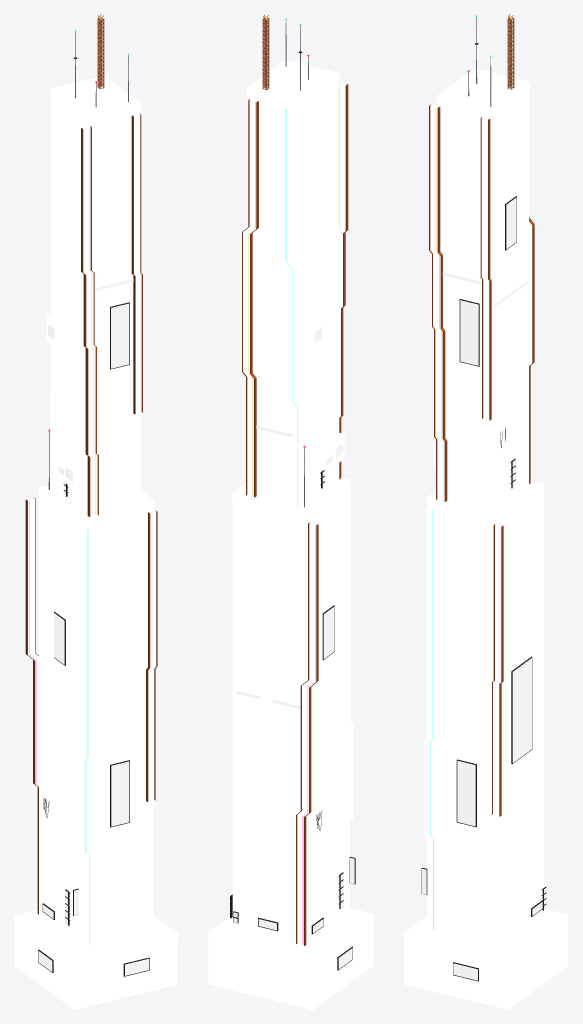
Rendered from k_block_c.glb.
3 views of the same model, side by side, from view 1: azimuth 30°, elevation 25°; view 2: azimuth 150°, elevation 25°; view 3: azimuth 330°, elevation 25° (orthographic).
Visible parts, largest first — view 1: kit_dark, kit_grey, kit_mid, steel_orange, screen_atlas, metal_dark, neon_cyan, neon_amber; view 2: kit_dark, kit_grey, kit_mid, steel_orange, kit_hex, screen_atlas, metal_dark, neon_amber, neon_cyan, neon_magenta; view 3: kit_dark, kit_grey, kit_mid, steel_orange, screen_atlas, metal_dark, neon_cyan, neon_amber.
Boxes of the visible parts, bbox=[...] form: kit_dark: bbox=[39, 96, 153, 948]; kit_grey: bbox=[14, 76, 178, 961]; kit_mid: bbox=[15, 86, 177, 1009]; steel_orange: bbox=[25, 14, 157, 914]; screen_atlas: bbox=[38, 279, 148, 975]; metal_dark: bbox=[38, 57, 149, 976]; neon_cyan: bbox=[85, 528, 89, 944]; neon_amber: bbox=[89, 16, 101, 514]; kit_dark: bbox=[232, 81, 349, 947]; kit_grey: bbox=[207, 60, 374, 961]; kit_mid: bbox=[208, 65, 373, 1009]; steel_orange: bbox=[242, 14, 348, 945]; kit_hex: bbox=[260, 634, 271, 814]; screen_atlas: bbox=[233, 327, 354, 969]; metal_dark: bbox=[230, 51, 355, 970]; neon_amber: bbox=[248, 16, 339, 496]; neon_cyan: bbox=[285, 109, 297, 507]; neon_magenta: bbox=[302, 525, 315, 944]; kit_dark: bbox=[428, 89, 543, 948]; kit_grey: bbox=[403, 68, 568, 961]; kit_mid: bbox=[404, 78, 567, 1009]; steel_orange: bbox=[429, 14, 534, 816]; screen_atlas: bbox=[422, 197, 546, 980]; metal_dark: bbox=[421, 43, 546, 981]; neon_cyan: bbox=[430, 510, 433, 929]; neon_amber: bbox=[436, 16, 511, 500].
Bounding box in the file's own units: 34.5 × 299 × 34.5.
